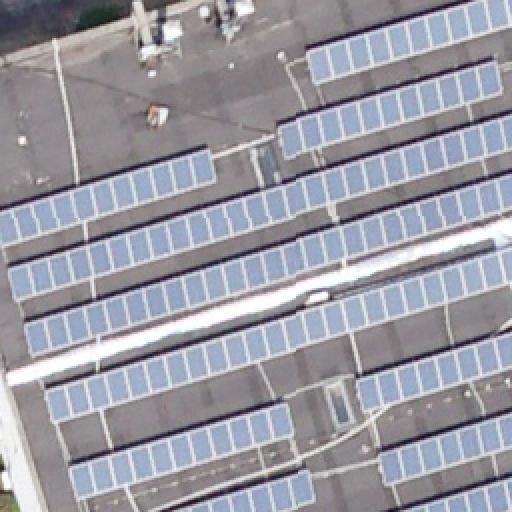solar-panel: (8, 114, 512, 302), (24, 174, 512, 358), (41, 246, 511, 422), (68, 401, 300, 503), (278, 61, 506, 163), (0, 149, 216, 251), (305, 0, 511, 84), (353, 330, 511, 410), (376, 411, 512, 485), (168, 465, 320, 511), (396, 473, 512, 511)
